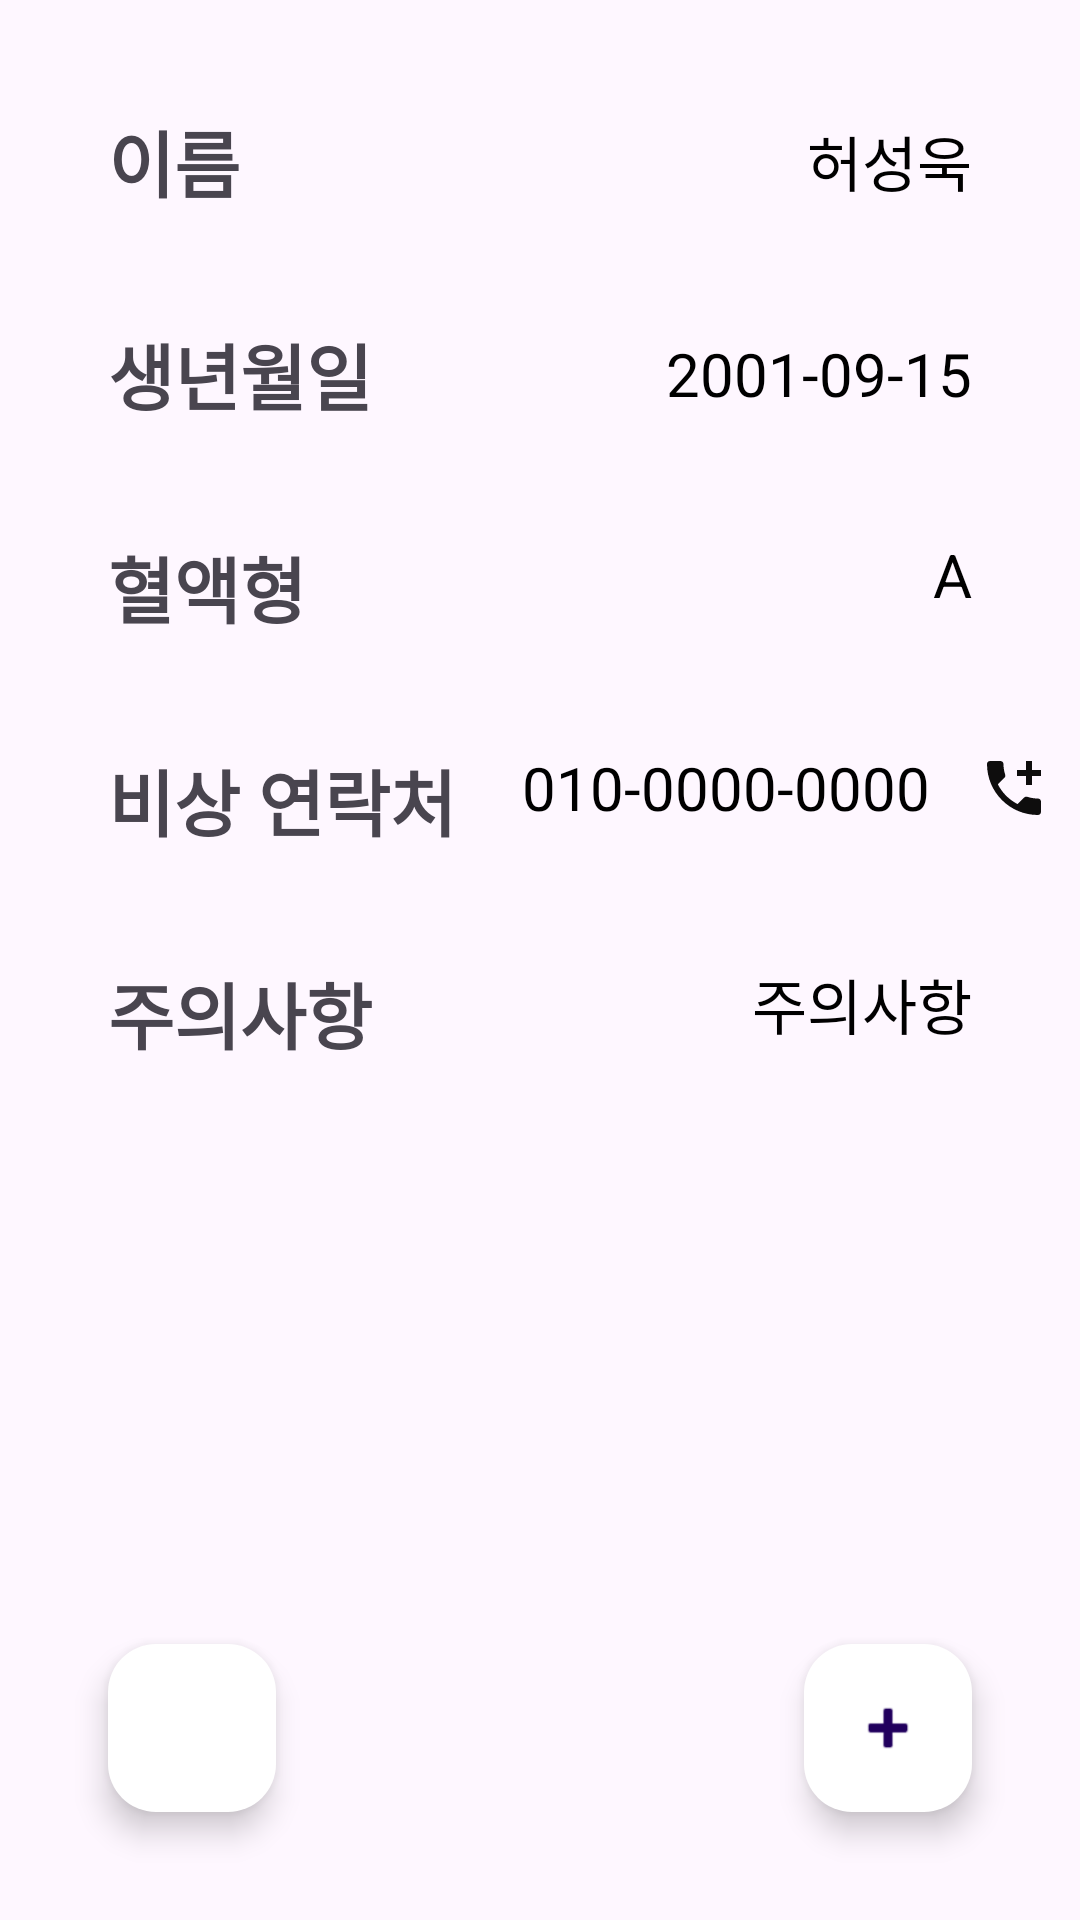

Named icons in this screenshot (1080px x 1920px) and their centers, point (x, y):
add: point (888, 1728)
add call: point (1014, 788)
